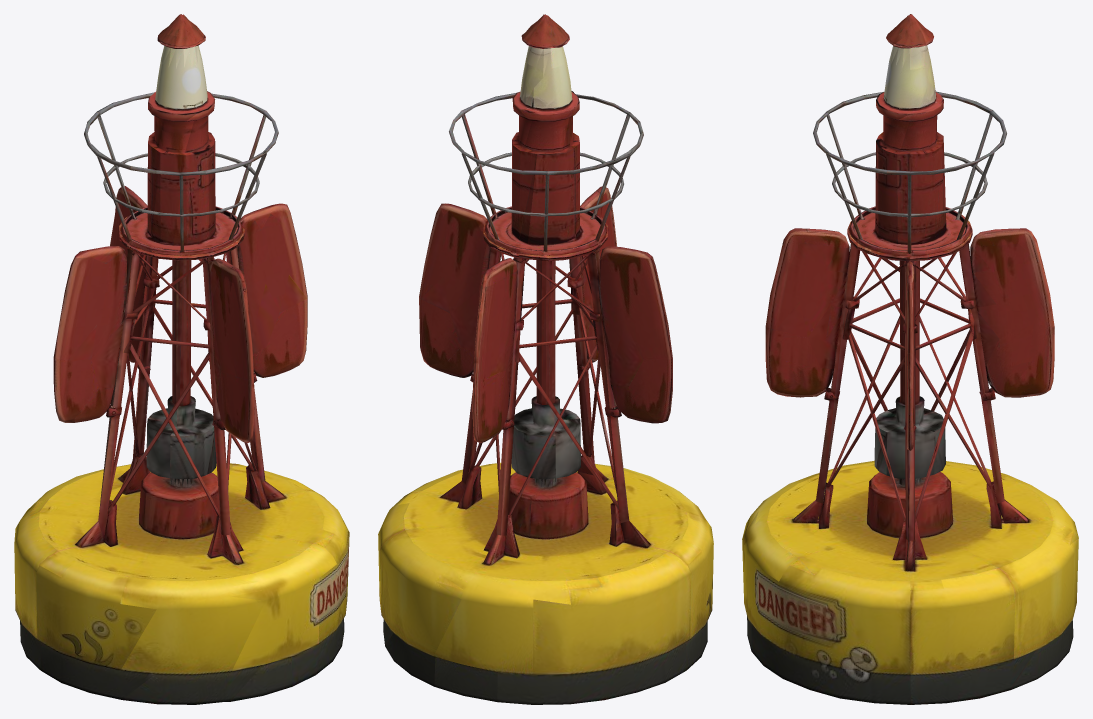
File: buoy.glb
3 views of the same model, side by side, from view 1: azimuth 30°, elevation 25°; view 2: azimuth 150°, elevation 25°; view 3: azimuth 270°, elevation 25° (orthographic).
Visible parts, largest first — view 1: mesh_node; view 2: mesh_node; view 3: mesh_node.
Part boxes in pixels (x1,y1,x2,y2): mesh_node: (14, 14, 349, 704); mesh_node: (378, 14, 713, 704); mesh_node: (742, 14, 1078, 704).
Size of the model in its own units: 0.4912 by 1 by 0.4912.
1 material, 1 textured.
